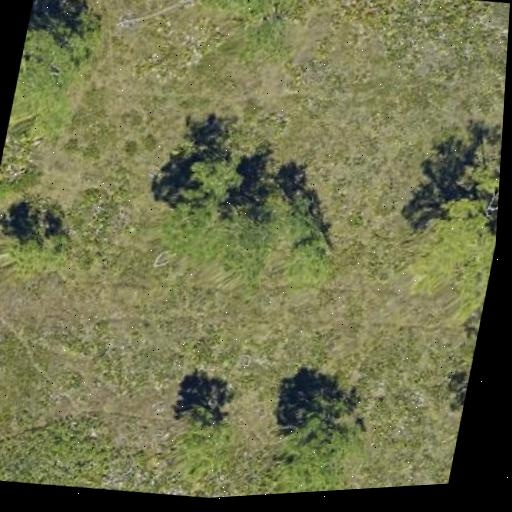tree-top: (405, 155, 501, 329), (153, 149, 283, 277), (4, 6, 100, 156), (274, 372, 375, 474), (262, 184, 352, 284), (2, 211, 84, 287), (175, 402, 248, 484)
